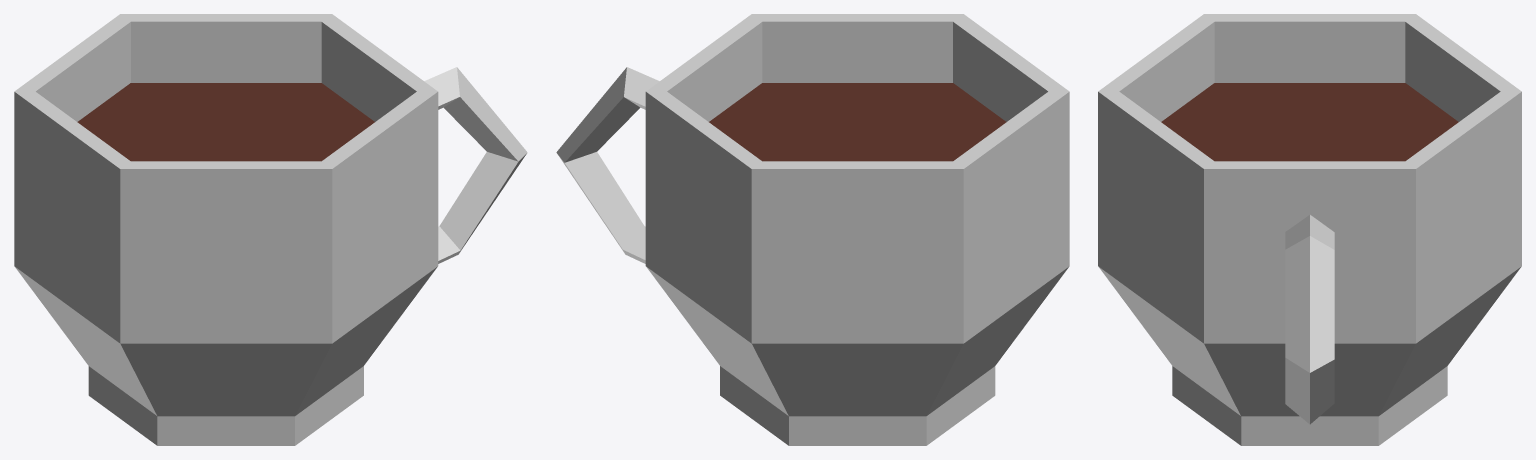
File: Cup1Coffee.fbx
3 views of the same model, side by side, from view 1: azimuth 30°, elevation 25°; view 2: azimuth 150°, elevation 25°; view 3: azimuth 270°, elevation 25° (orthographic).
Visible parts, largest first — view 1: Cylinder; view 2: Cylinder; view 3: Cylinder.
Boxes of the visible parts, x1,y1,x2,y2 form: Cylinder: [14, 14, 527, 445]; Cylinder: [556, 14, 1069, 445]; Cylinder: [1098, 14, 1521, 445].
Bounding box in the file's own units: 0.2318 × 0.1463 × 0.1848.
